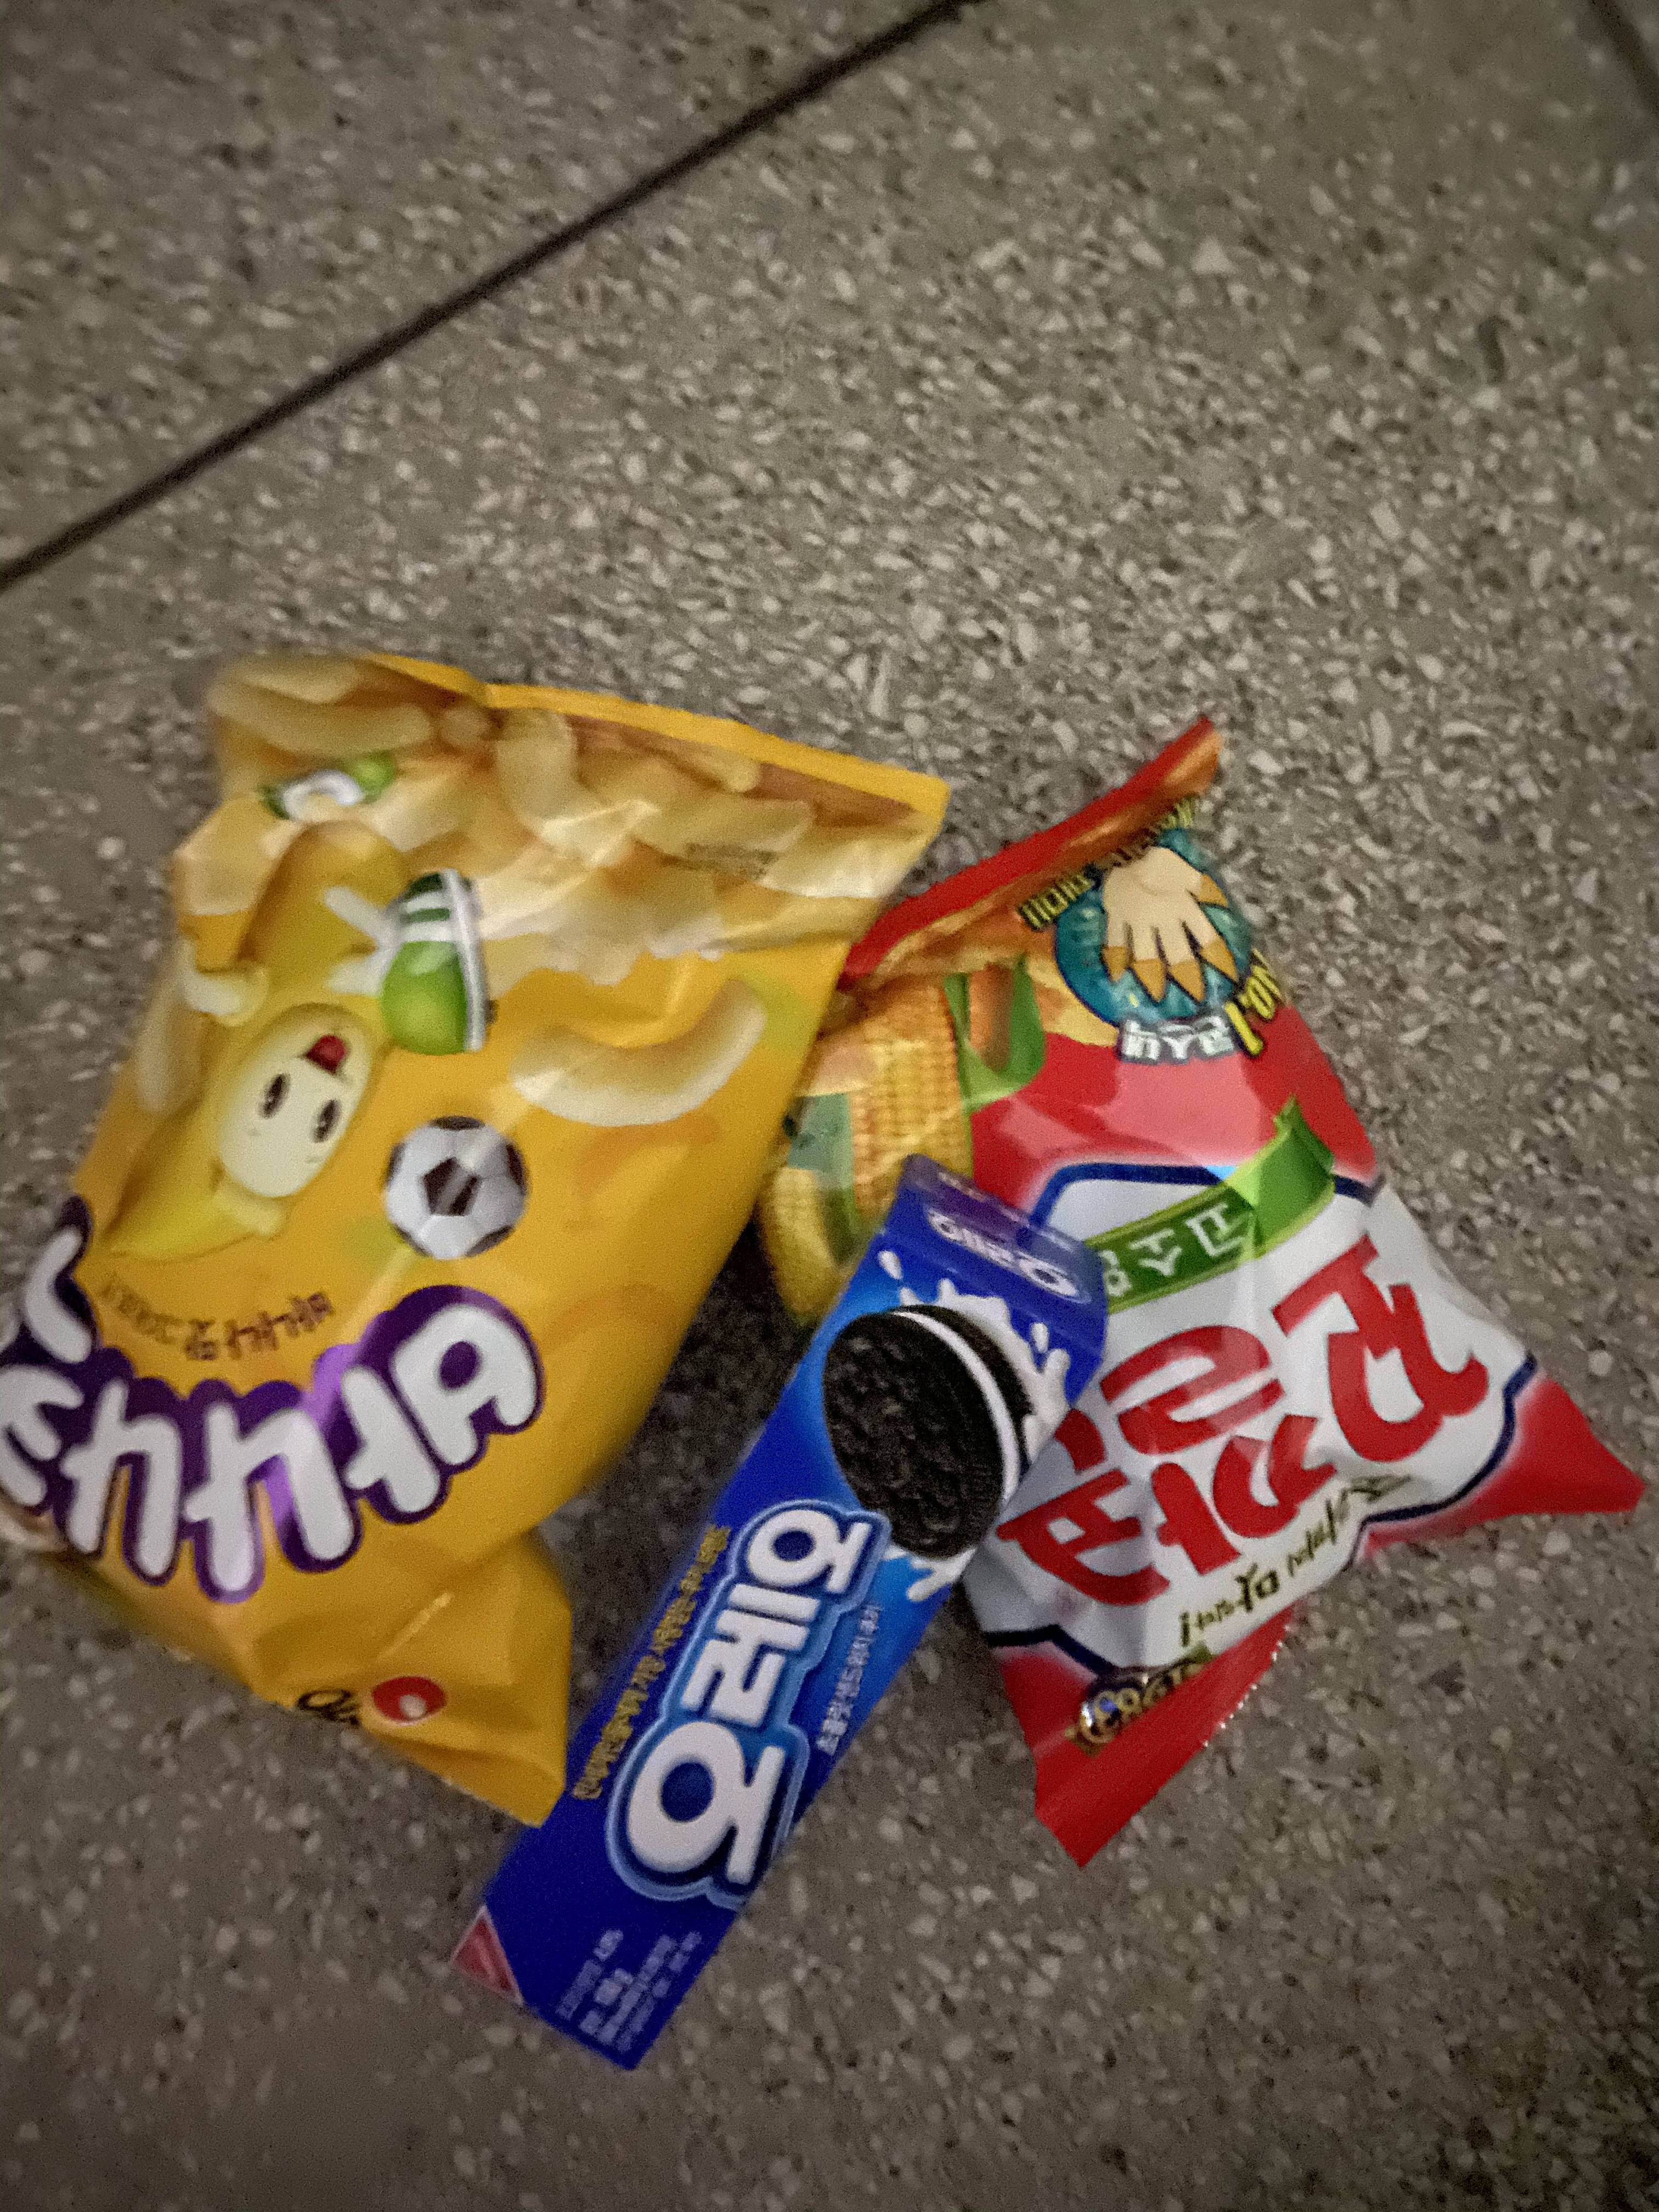banana: (0, 599, 967, 1839)
ggoggalcon: (721, 700, 1659, 1883)
oreo: (422, 1148, 1121, 2085)
